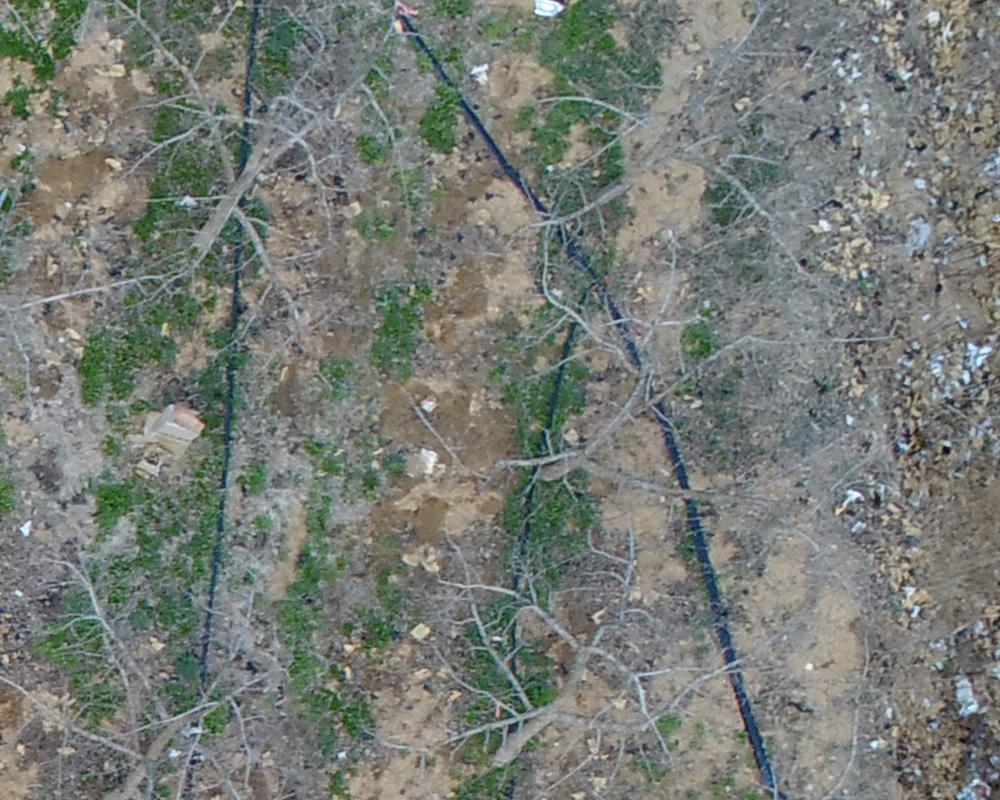apple: (450, 192, 806, 548), (79, 10, 427, 341), (391, 517, 769, 790), (479, 10, 839, 286), (10, 544, 399, 790), (552, 652, 902, 790)
